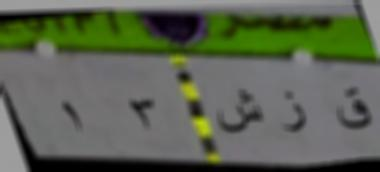1: (56, 90, 92, 139)
3: (128, 91, 163, 136)
qaaf: (331, 78, 373, 144)
sheen: (210, 89, 266, 139)
zay: (280, 84, 309, 144)
